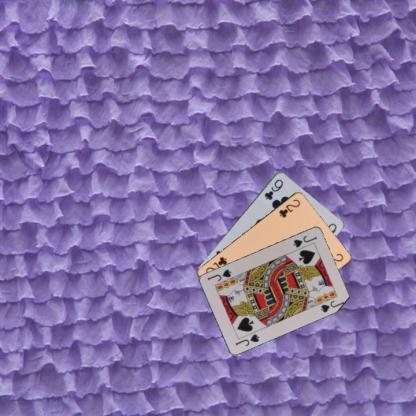2c: (276, 196, 302, 219)
9c: (262, 176, 284, 201)
Js: (291, 232, 318, 249), (233, 331, 260, 347)
